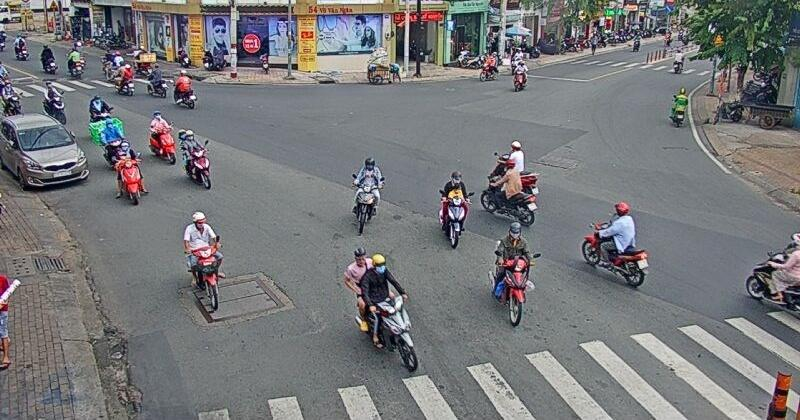xe hoi: (0, 112, 88, 187)
xe may: (343, 247, 418, 371), (580, 202, 648, 287), (489, 222, 541, 327), (181, 209, 222, 310), (480, 160, 536, 227), (438, 171, 474, 248), (352, 157, 384, 236), (113, 141, 148, 204), (178, 128, 212, 190), (149, 110, 176, 164), (44, 81, 66, 122), (173, 70, 197, 107), (147, 63, 168, 98)
